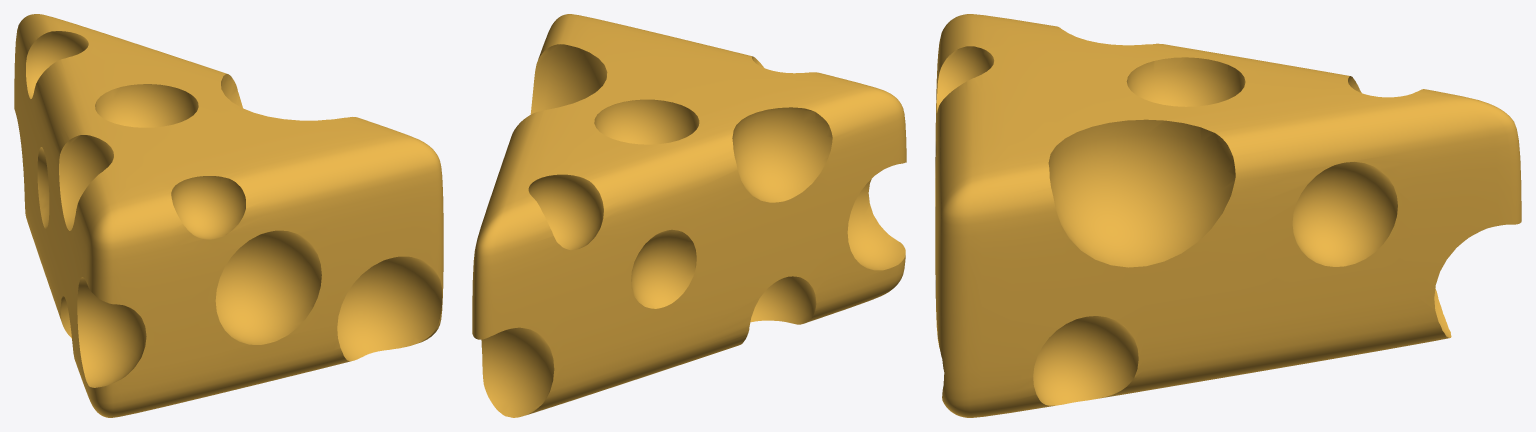
File: kaas.fbx
3 views of the same model, side by side, from view 1: azimuth 30°, elevation 25°; view 2: azimuth 150°, elevation 25°; view 3: azimuth 270°, elevation 25° (orthographic). The views are drawn at different scales.
Parts seen in each view (by area): view 1: Cube; view 2: Cube; view 3: Cube.
Part boxes in pixels (x1,y1,x2,y2): Cube: (14, 14, 443, 417); Cube: (472, 14, 906, 417); Cube: (935, 14, 1521, 417).
Size of the model in its own units: 168 by 99.33 by 214.
